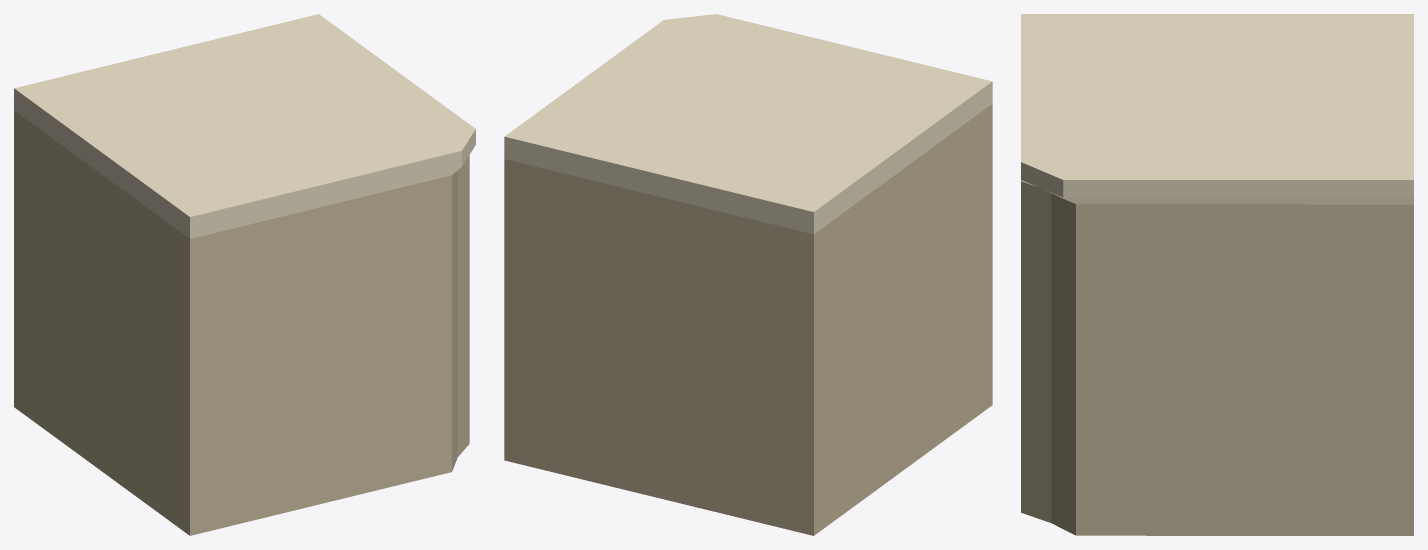
The model's file is Countertop_Corner.fbx.
3 views of the same model, side by side, from view 1: azimuth 30°, elevation 25°; view 2: azimuth 150°, elevation 25°; view 3: azimuth 270°, elevation 25° (orthographic). The views are drawn at different scales.
Parts seen in each view (by area): view 1: Counter corner; view 2: Counter corner; view 3: Counter corner.
Part boxes in pixels (<box>): Counter corner: <box>14,14,475,535</box>; Counter corner: <box>504,14,992,535</box>; Counter corner: <box>1021,14,1413,535</box>.
Bounding box in the file's own units: 91.2 × 91.2 × 91.2.
